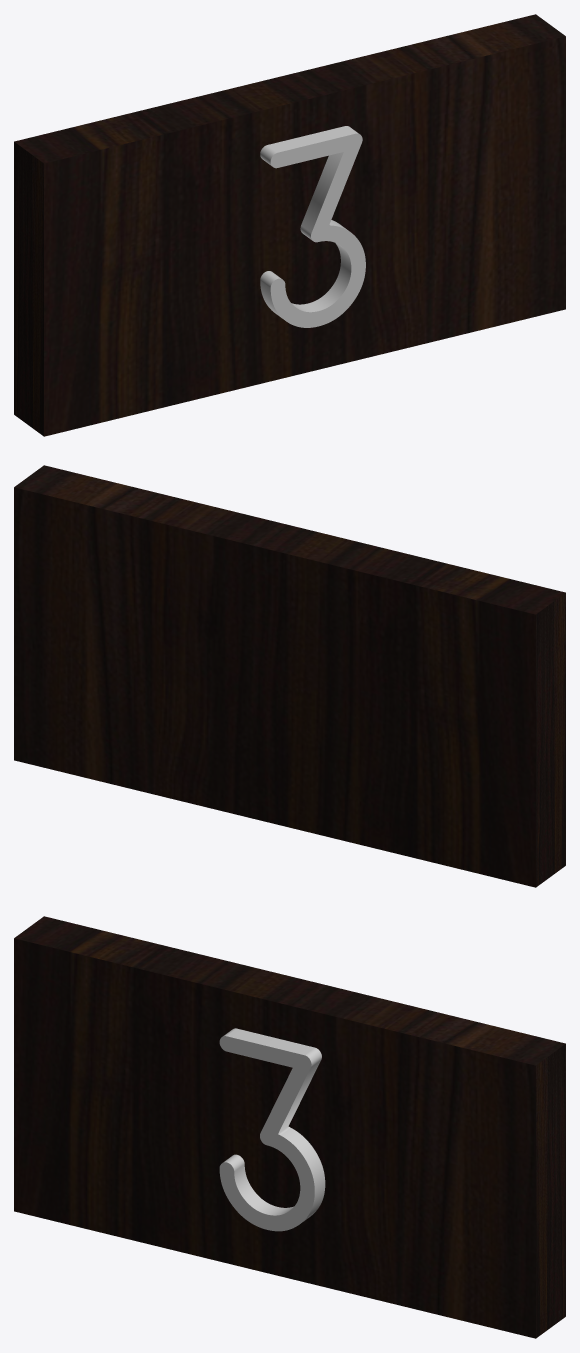
The picture shows the model from 3 angles, top to bottom: view 1: azimuth 30°, elevation 25°; view 2: azimuth 150°, elevation 25°; view 3: azimuth 330°, elevation 25°; orthographic projection.
Visible parts, largest first — view 1: Base, Text; view 2: Base; view 3: Base, Text.
Part boxes in pixels (left/top/right/bottom): Base: left=14, top=14, right=565, bottom=436; Text: left=260, top=126, right=365, bottom=327; Base: left=14, top=465, right=565, bottom=887; Base: left=14, top=916, right=565, bottom=1338; Text: left=219, top=1028, right=325, bottom=1231.
Bounding box in the file's own units: 200 × 100 × 26.96.
